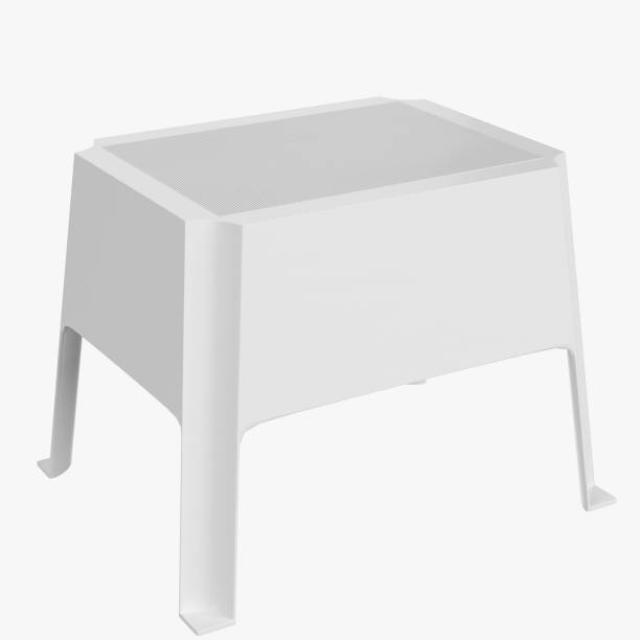table: (35, 93, 618, 636)
